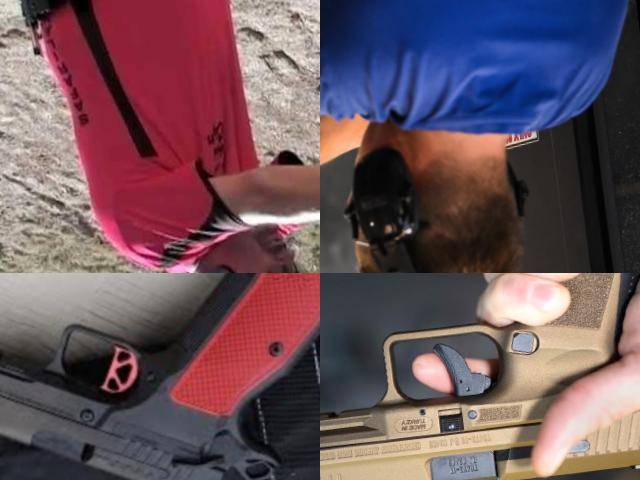handgun: (0, 273, 320, 480), (320, 273, 640, 480), (320, 175, 368, 273)
